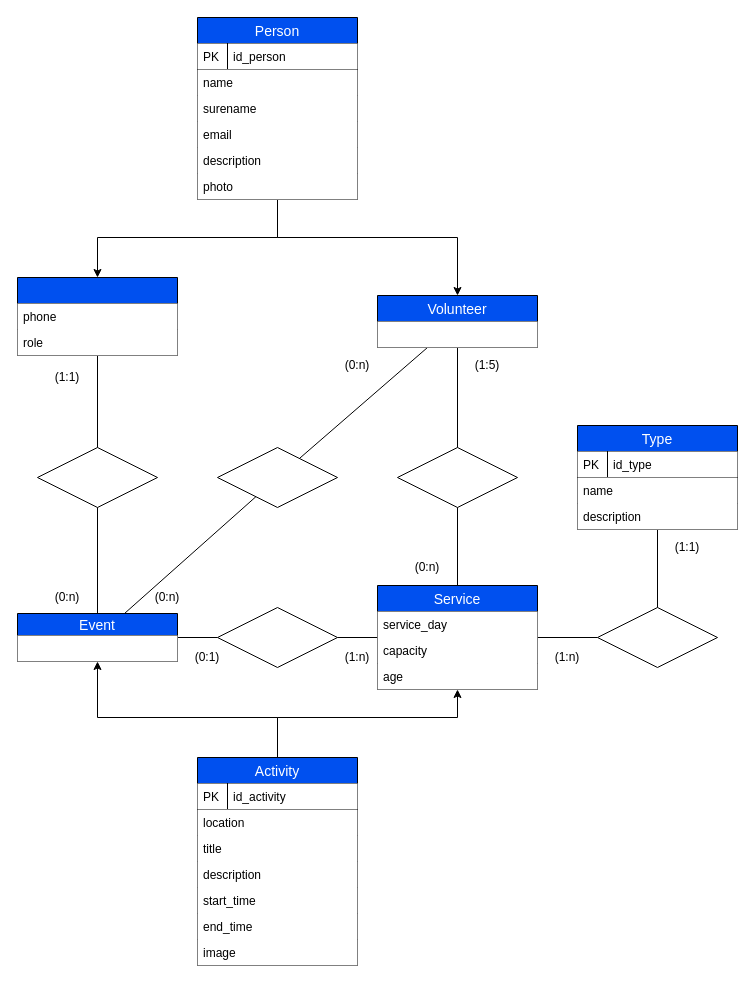
Some shapes in this 755 by 986 pixel diagram are drawn without their labels. Here are the shapes that lost their labels. From the top down, the box of each, then its label:
(16, 276, 178, 356): Manager
(377, 321, 537, 347): volunteer_time
(36, 446, 158, 508): Creates
(216, 446, 338, 508): Helps
(396, 446, 518, 508): Participates
(17, 635, 177, 661): event_date
(216, 606, 338, 668): Presented
(596, 606, 718, 668): Belongs
